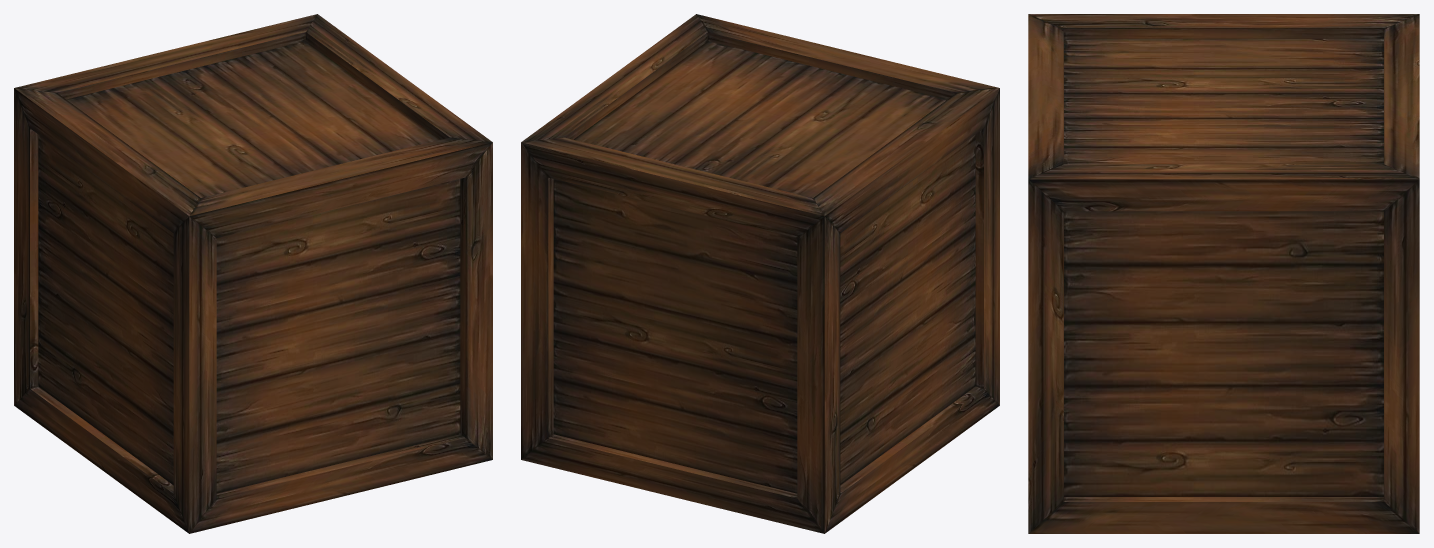
Rendered from cassa.fbx.
The picture shows the model from 3 angles, left to right: view 1: azimuth 30°, elevation 25°; view 2: azimuth 150°, elevation 25°; view 3: azimuth 270°, elevation 25°; orthographic projection. The views are drawn at different scales.
Visible parts, largest first — view 1: Cassa; view 2: Cassa; view 3: Cassa.
Part boxes in pixels (box(x1,y1,x2,y2)): Cassa: box(14, 14, 492, 533); Cassa: box(521, 14, 999, 533); Cassa: box(1028, 14, 1419, 533).
Bounding box in the file's own units: 200 × 200 × 200.
